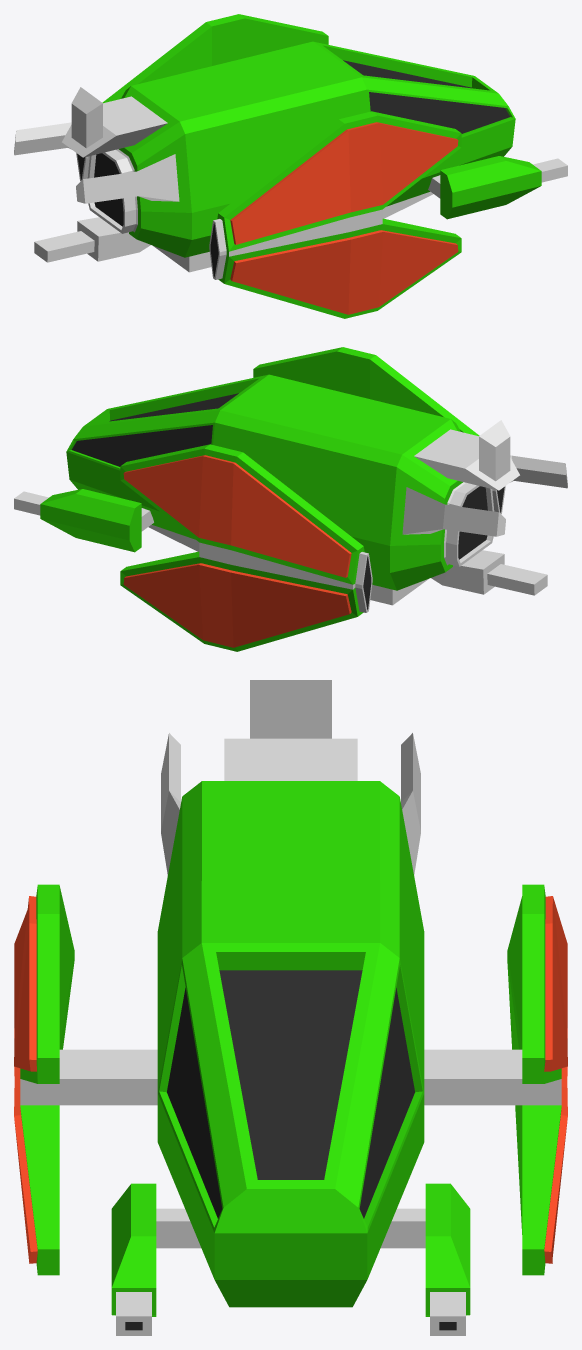
The model's file is Space_Ship_2.fbx.
The picture shows the model from 3 angles, top to bottom: view 1: azimuth 30°, elevation 25°; view 2: azimuth 150°, elevation 25°; view 3: azimuth 270°, elevation 25°; orthographic projection. The views are drawn at different scales.
Parts seen in each view (by area): view 1: Space_Ship.001; view 2: Space_Ship.001; view 3: Space_Ship.001.
Part boxes in pixels (x1=…): Space_Ship.001: x1=14, y1=14, x2=567, y2=318; Space_Ship.001: x1=14, y1=347, x2=567, y2=651; Space_Ship.001: x1=14, y1=680, x2=567, y2=1335.
Bounding box in the file's own units: 758 × 329 × 416.
